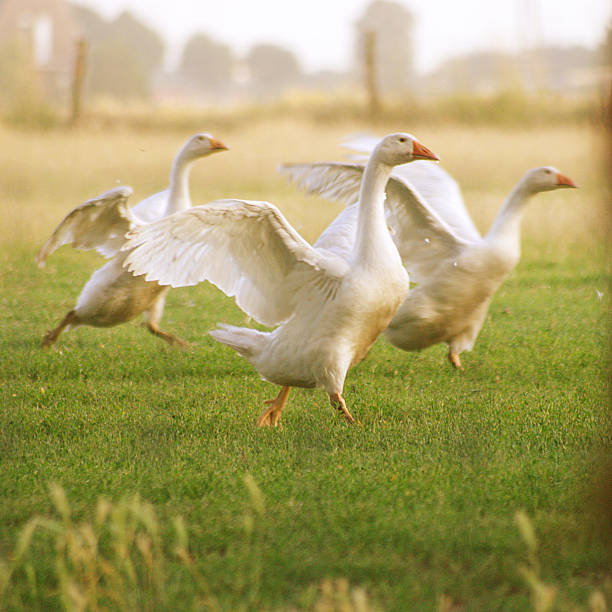goose: (194, 132, 439, 434), (41, 132, 231, 352), (384, 164, 580, 374)
